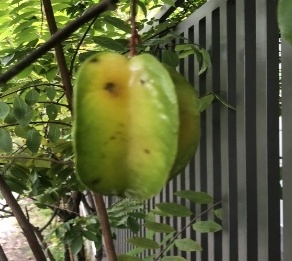Khe: (67, 47, 206, 204)
